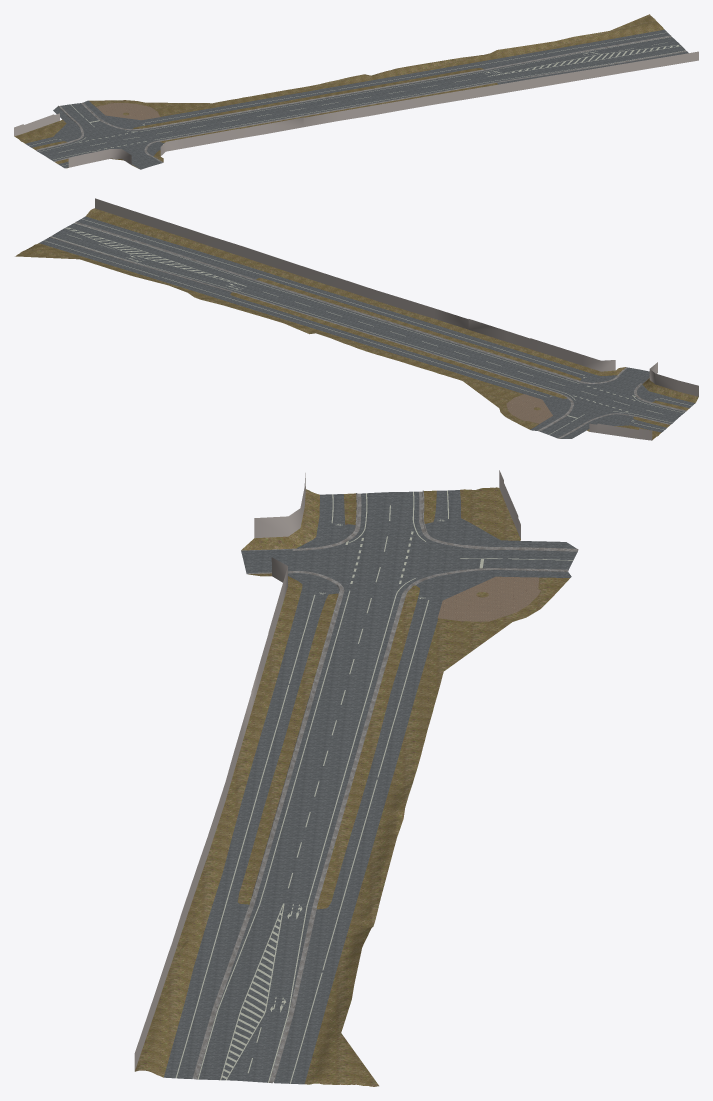
Rendered from zimCreateArchive_Area06_Ground.fbx.
3 views of the same model, one above another, from view 1: azimuth 30°, elevation 25°; view 2: azimuth 150°, elevation 25°; view 3: azimuth 270°, elevation 25° (orthographic). The views are drawn at different scales.
Visible parts, largest first — view 1: Ground-Road, Ground-Grass1, Ground-Wall-Silver, Ground-Path-DarkGrey, Ground-Kerb, Ground-RoadMark, Ground-Paving-Sand; view 2: Ground-Road, Ground-Grass1, Ground-Path-DarkGrey, Ground-Wall-Silver, Ground-RoadMark, Ground-Kerb, Ground-Paving-Sand; view 3: Ground-Road, Ground-Grass1, Ground-Path-DarkGrey, Ground-Kerb, Ground-RoadMark, Ground-Wall-Silver, Ground-Paving-Sand.
Boxes of the visible parts, x1,y1,x2,y2 form: Ground-Road: [37, 37, 685, 169]; Ground-Grass1: [14, 14, 664, 168]; Ground-Wall-Silver: [14, 51, 698, 167]; Ground-Path-DarkGrey: [25, 29, 688, 168]; Ground-Kerb: [35, 35, 687, 169]; Ground-RoadMark: [29, 32, 685, 166]; Ground-Paving-Sand: [96, 103, 159, 120]; Ground-Road: [51, 223, 684, 438]; Ground-Grass1: [15, 208, 698, 439]; Ground-Path-DarkGrey: [39, 216, 694, 438]; Ground-Wall-Silver: [95, 198, 698, 440]; Ground-RoadMark: [44, 218, 692, 434]; Ground-Kerb: [49, 221, 686, 438]; Ground-Paving-Sand: [506, 394, 552, 423]; Ground-Road: [197, 491, 577, 1082]; Ground-Grass1: [135, 487, 569, 1086]; Ground-Path-DarkGrey: [164, 490, 576, 1084]; Ground-Kerb: [192, 490, 578, 1083]; Ground-RoadMark: [175, 490, 572, 1083]; Ground-Wall-Silver: [134, 470, 520, 1070]; Ground-Paving-Sand: [437, 576, 540, 621].
Size of the model in its own units: 194 by 61.6 by 5.3.
6 materials, 6 textured.
